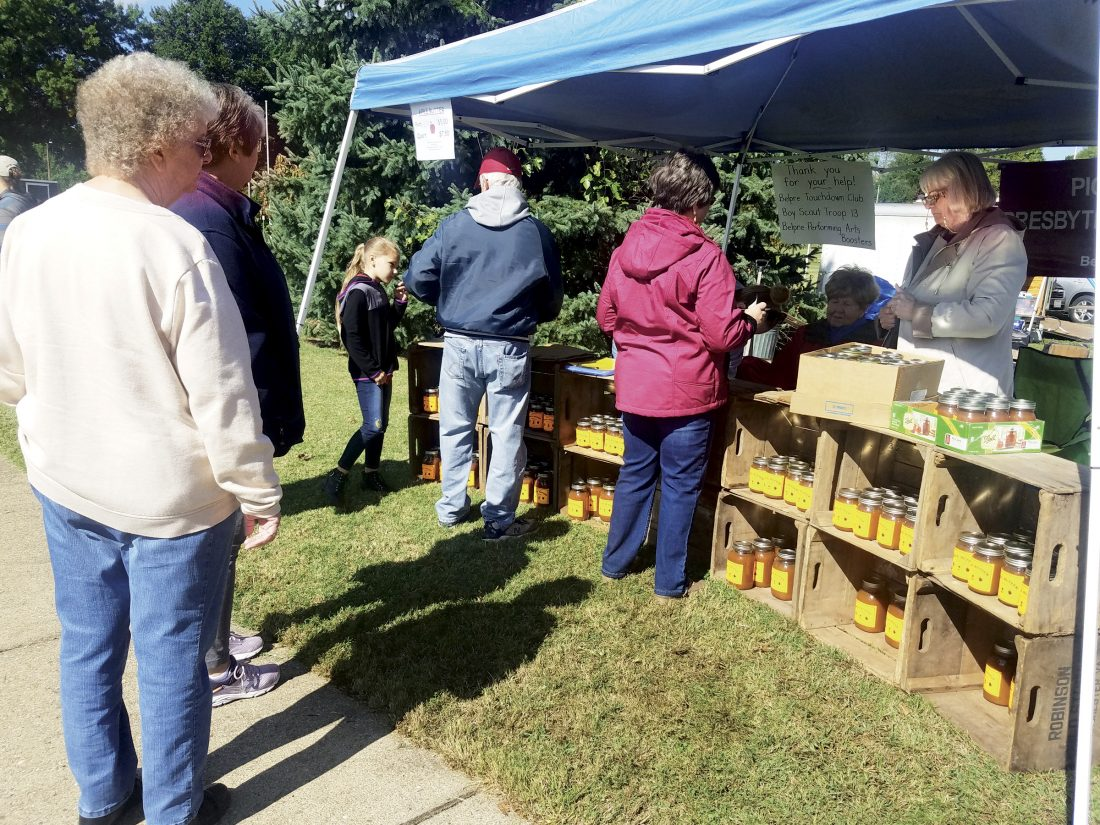Person: (1, 50, 286, 825), (595, 148, 770, 599), (403, 146, 567, 541), (879, 151, 1028, 397), (319, 235, 410, 510)
